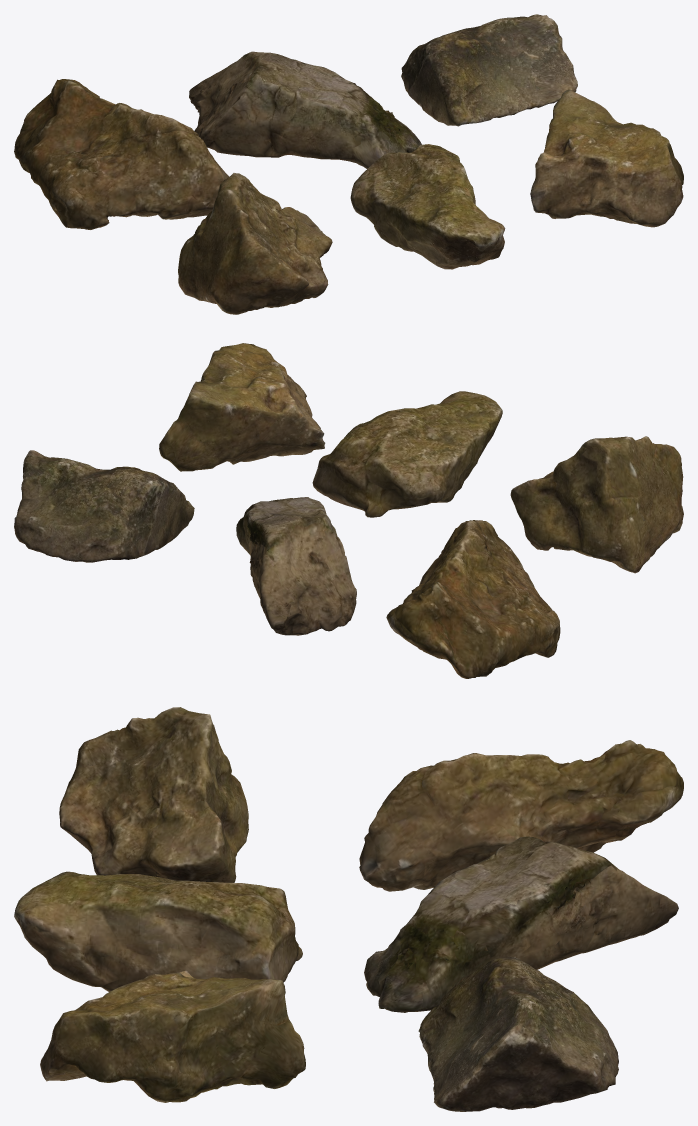
File: rock_moss_set_01-detail-lod.glb
3 views of the same model, one above another, from view 1: azimuth 30°, elevation 25°; view 2: azimuth 150°, elevation 25°; view 3: azimuth 270°, elevation 25° (orthographic). The views are drawn at different scales.
Parts seen in each view (by area): view 1: rock_moss_set_01_rock01, rock_moss_set_01_rock02, rock_moss_set_01_rock06, rock_moss_set_01_rock04, rock_moss_set_01_rock03, rock_moss_set_01_rock05; view 2: rock_moss_set_01_rock04, rock_moss_set_01_rock01, rock_moss_set_01_rock05, rock_moss_set_01_rock03, rock_moss_set_01_rock06, rock_moss_set_01_rock02; view 3: rock_moss_set_01_rock01, rock_moss_set_01_rock02, rock_moss_set_01_rock05, rock_moss_set_01_rock06, rock_moss_set_01_rock04, rock_moss_set_01_rock03.
Boxes of the visible parts, bbox=[...] form: rock_moss_set_01_rock01: bbox=[14, 79, 229, 229]; rock_moss_set_01_rock02: bbox=[189, 51, 421, 168]; rock_moss_set_01_rock06: bbox=[530, 89, 683, 227]; rock_moss_set_01_rock04: bbox=[178, 173, 332, 314]; rock_moss_set_01_rock03: bbox=[401, 14, 577, 126]; rock_moss_set_01_rock05: bbox=[350, 144, 505, 269]; rock_moss_set_01_rock04: bbox=[510, 436, 683, 573]; rock_moss_set_01_rock01: bbox=[386, 520, 560, 678]; rock_moss_set_01_rock05: bbox=[312, 391, 502, 517]; rock_moss_set_01_rock03: bbox=[14, 450, 194, 562]; rock_moss_set_01_rock06: bbox=[159, 343, 325, 471]; rock_moss_set_01_rock02: bbox=[236, 497, 356, 635]; rock_moss_set_01_rock01: bbox=[359, 740, 683, 891]; rock_moss_set_01_rock02: bbox=[364, 836, 678, 1012]; rock_moss_set_01_rock05: bbox=[14, 871, 302, 991]; rock_moss_set_01_rock06: bbox=[40, 970, 305, 1102]; rock_moss_set_01_rock04: bbox=[59, 707, 248, 882]; rock_moss_set_01_rock03: bbox=[418, 956, 618, 1111].
Bounding box in the file's own units: 8 × 1.77 × 6.94.
Materials: 1 (1 with a texture image).
